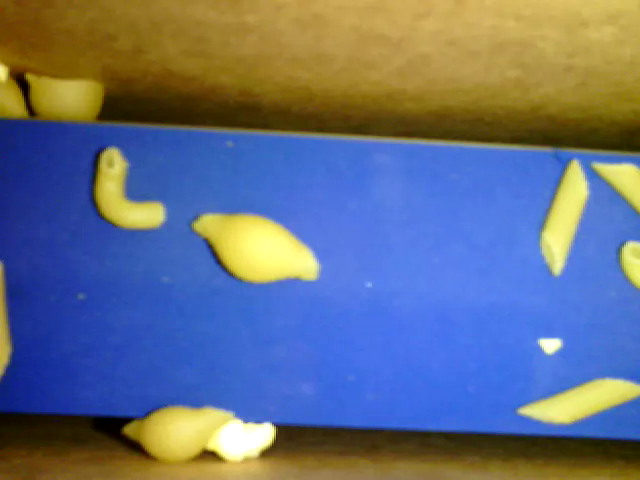elbow: (94, 148, 166, 230)
penne: (532, 160, 590, 279), (514, 377, 638, 424), (594, 158, 638, 205)
shell: (189, 214, 319, 286), (116, 403, 234, 468), (24, 70, 105, 127)
